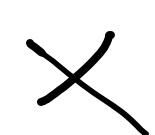mult: (26, 31, 149, 135)
